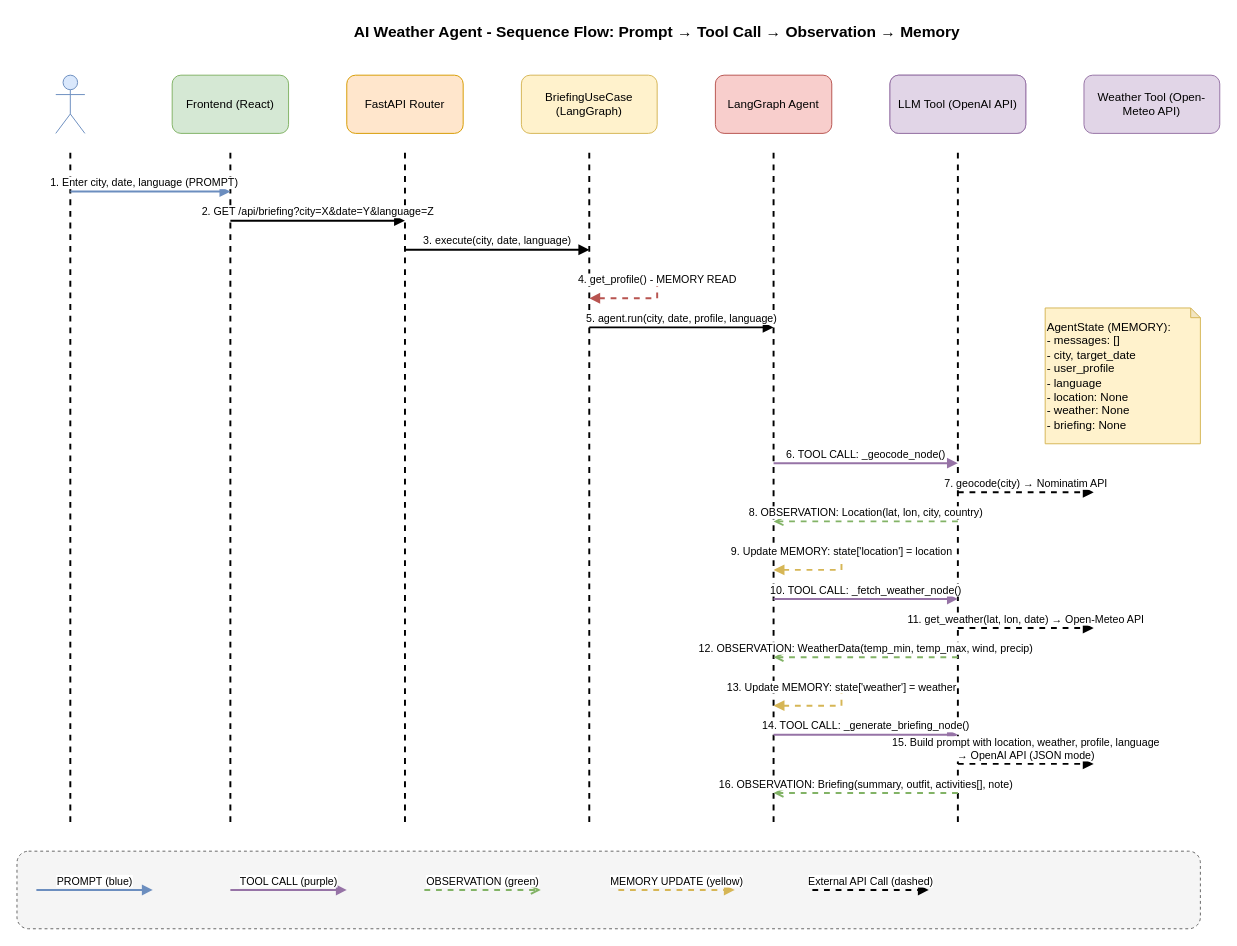
The diagram is 1237 pixels wide and 946 high, and some of its shapes have lost their labels. The box of each missing label's shape, as (x1, y1, x2, y2) in pixels:
LEGEND: Prompt → Tool Call → Observation → Memory Pattern: (16, 850, 1200, 929)
User: (55, 74, 85, 133)
